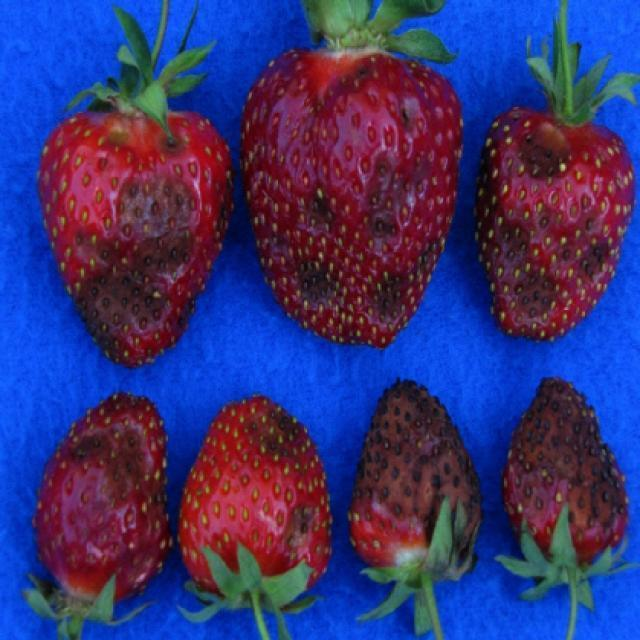Anthracnose Fruit Rot: (239, 51, 462, 348), (68, 119, 234, 371), (475, 113, 619, 341), (350, 375, 482, 546), (500, 374, 629, 546), (235, 395, 328, 562), (57, 415, 153, 516)
